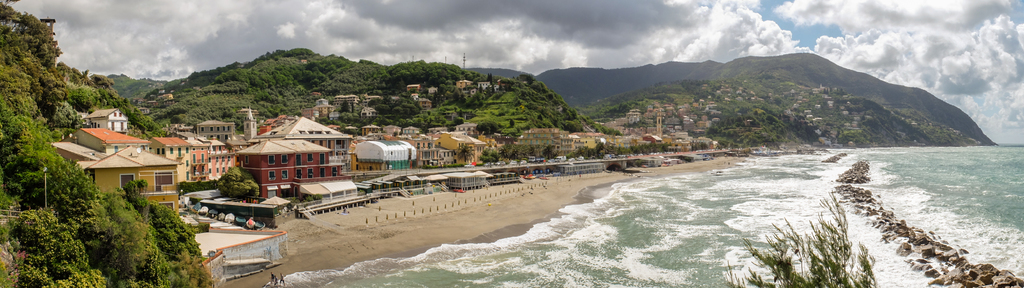Tree: (0, 0, 193, 287), (194, 46, 624, 136), (627, 74, 961, 150), (724, 186, 879, 287), (573, 144, 675, 161), (219, 162, 264, 199), (176, 179, 218, 197), (504, 142, 538, 161), (478, 145, 505, 167), (453, 144, 471, 167), (538, 145, 558, 160)
